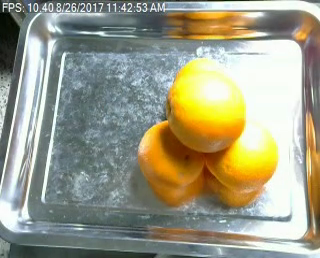Orange: (165, 72, 246, 152), (204, 118, 277, 192), (136, 119, 205, 188)
